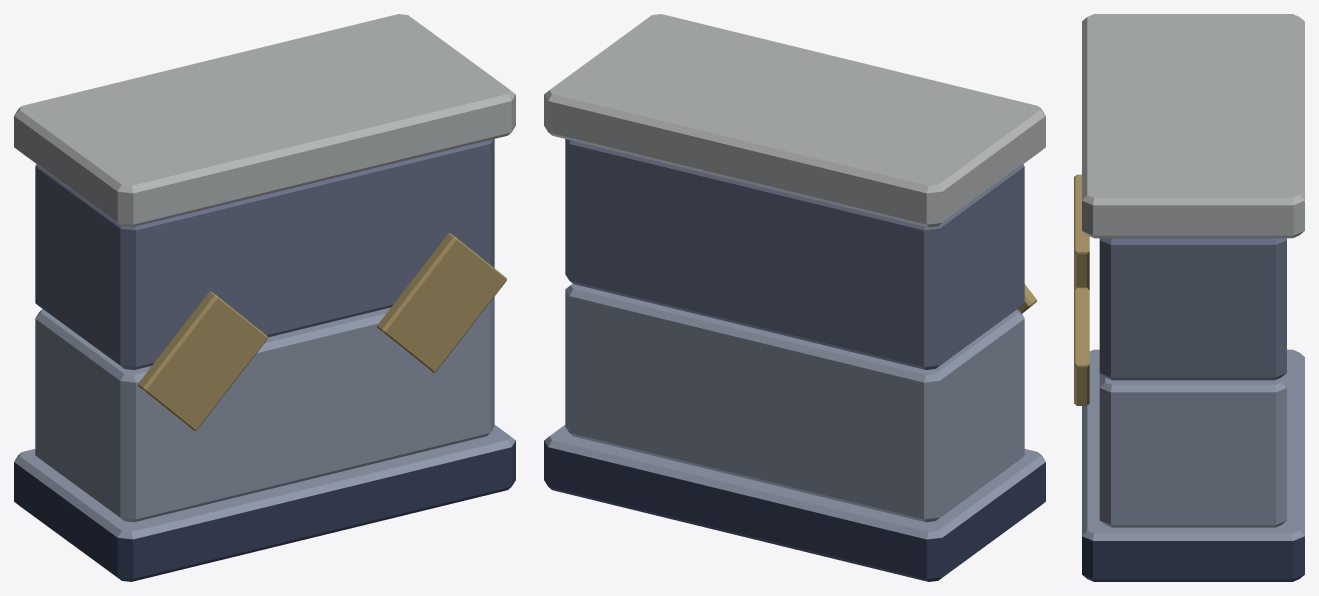
Rendered from wall-short.glb.
3 views of the same model, side by side, from view 1: azimuth 30°, elevation 25°; view 2: azimuth 150°, elevation 25°; view 3: azimuth 270°, elevation 25° (orthographic). The views are drawn at different scales.
Parts seen in each view (by area): view 1: wall-short__body; view 2: wall-short__body; view 3: wall-short__body.
Boxes of the visible parts, bbox=[...] form: wall-short__body: bbox=[14, 14, 515, 581]; wall-short__body: bbox=[544, 14, 1045, 581]; wall-short__body: bbox=[1074, 14, 1304, 581].
Size of the model in its own units: 1 by 0.95 by 0.5175.
